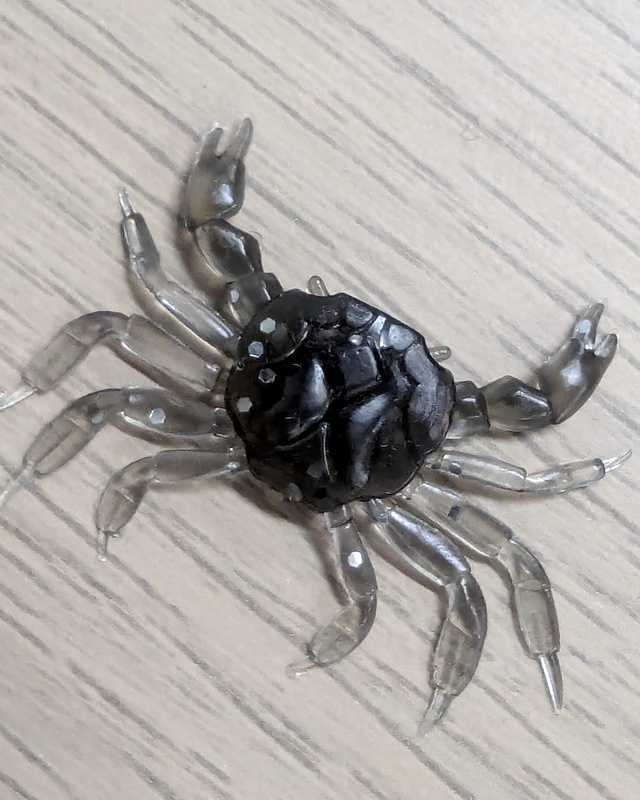crab1: (1, 117, 636, 732)
